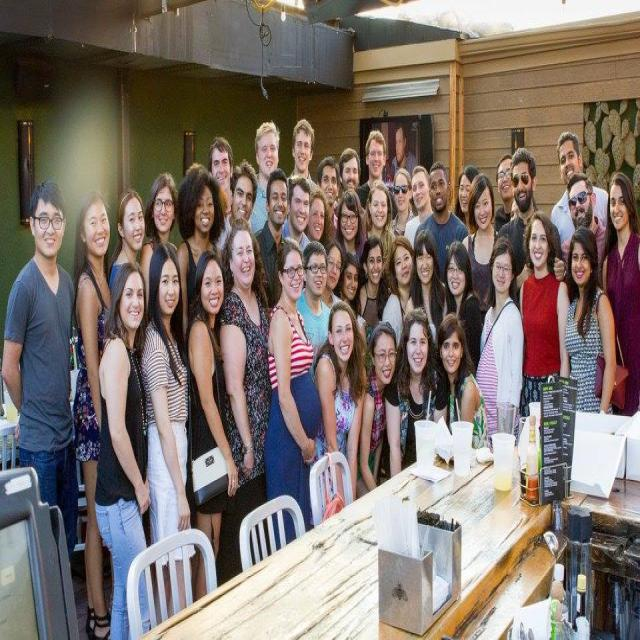body: (2, 178, 78, 557), (95, 259, 157, 639), (139, 240, 196, 630), (219, 215, 275, 576), (71, 189, 115, 640), (184, 249, 238, 603), (266, 232, 323, 563), (307, 298, 367, 530), (496, 147, 567, 315), (175, 159, 228, 377), (563, 225, 620, 417), (479, 236, 524, 456), (518, 210, 565, 418), (383, 306, 439, 480), (602, 170, 639, 417), (436, 310, 490, 450), (549, 129, 611, 250), (357, 318, 398, 496), (413, 161, 471, 283), (407, 226, 452, 363), (443, 238, 485, 379), (460, 172, 502, 307), (560, 170, 606, 292), (139, 173, 178, 315), (295, 238, 333, 368), (254, 167, 289, 308), (247, 117, 288, 237), (105, 186, 147, 294), (353, 128, 398, 220), (215, 160, 259, 254), (380, 236, 415, 353), (360, 177, 398, 282), (206, 134, 236, 254), (358, 233, 390, 332), (333, 250, 368, 335), (403, 165, 435, 252), (334, 187, 368, 267), (280, 172, 313, 254), (285, 117, 319, 191), (388, 112, 428, 170), (318, 237, 346, 312), (303, 185, 335, 250), (453, 162, 481, 236), (316, 154, 342, 232), (493, 153, 515, 235), (390, 167, 413, 237), (337, 146, 362, 194), (510, 188, 520, 222)
